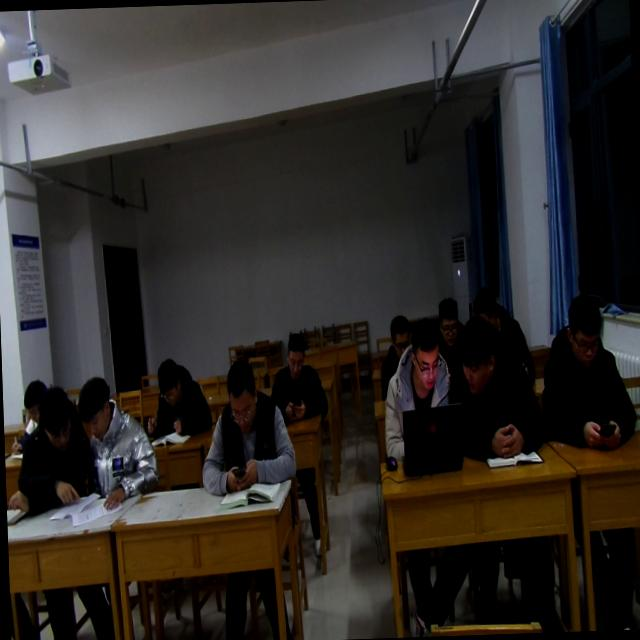down: (563, 292, 607, 368), (222, 354, 260, 438), (74, 372, 110, 444), (410, 317, 442, 395), (40, 382, 74, 452), (154, 354, 184, 412), (433, 292, 460, 347), (18, 374, 46, 421), (282, 328, 306, 380), (384, 310, 410, 358)
sit: (536, 294, 638, 452), (446, 316, 546, 462), (198, 360, 298, 496), (72, 374, 158, 512), (5, 386, 93, 516), (378, 318, 453, 466), (142, 357, 216, 441), (480, 286, 537, 384), (271, 330, 330, 422), (432, 297, 468, 385), (9, 376, 46, 456), (378, 314, 412, 401)
